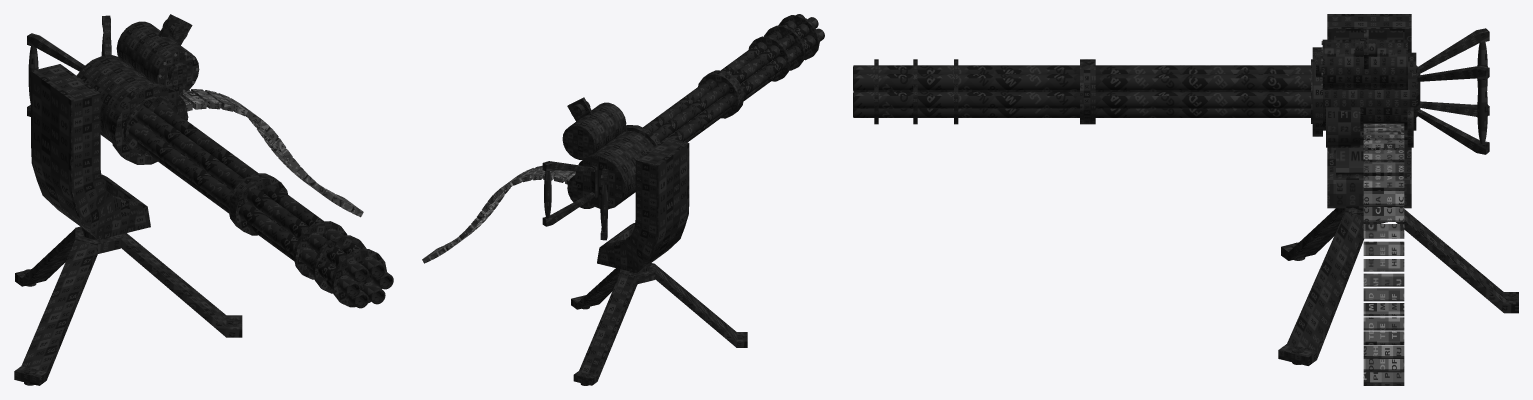
File: Mini_Gun_Turret_Model_UVs.fbx
3 views of the same model, side by side, from view 1: azimuth 30°, elevation 25°; view 2: azimuth 150°, elevation 25°; view 3: azimuth 270°, elevation 25° (orthographic). The views are drawn at different scales.
Parts seen in each view (by area): view 1: pCylinder32, pCube6, transform1, pCylinder40, pCube33; view 2: transform1, pCylinder32, pCube6, pCylinder40, pCube33; view 3: pCylinder32, transform1, pCube33, pCylinder40, pCube6.
Boxes of the visible parts, <box> form: pCylinder32: <box>123,96,393,308</box>; pCube6: <box>31,64,150,239</box>; transform1: <box>27,14,199,164</box>; pCylinder40: <box>14,226,242,385</box>; pCube33: <box>179,89,363,217</box>; transform1: <box>542,97,659,240</box>; pCylinder32: <box>643,14,824,142</box>; pCube6: <box>597,137,689,272</box>; pCylinder40: <box>571,263,747,385</box>; pCube33: <box>422,165,575,263</box>; pCylinder32: <box>853,59,1312,124</box>; transform1: <box>1312,28,1489,154</box>; pCube33: <box>1363,123,1404,385</box>; pCylinder40: <box>1278,208,1518,365</box>; pCube6: <box>1327,14,1411,208</box>.
Size of the model in its own units: 4.56 by 3.5 by 6.65.
Materials: 2 (2 with a texture image).
